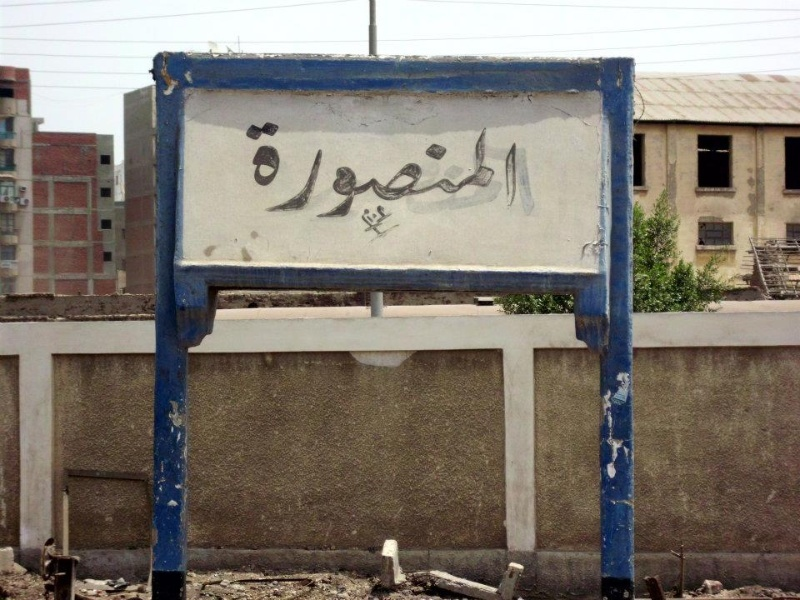text: (257, 121, 272, 220), (273, 121, 288, 220), (289, 121, 304, 220), (305, 121, 320, 220), (321, 121, 336, 220), (337, 121, 352, 220), (353, 121, 368, 220), (369, 121, 384, 220), (385, 121, 400, 220), (401, 121, 416, 220), (417, 121, 432, 220), (433, 121, 448, 220), (449, 121, 464, 220), (465, 121, 480, 220), (481, 121, 496, 220), (497, 121, 512, 220), (246, 121, 256, 220), (513, 121, 521, 220)
